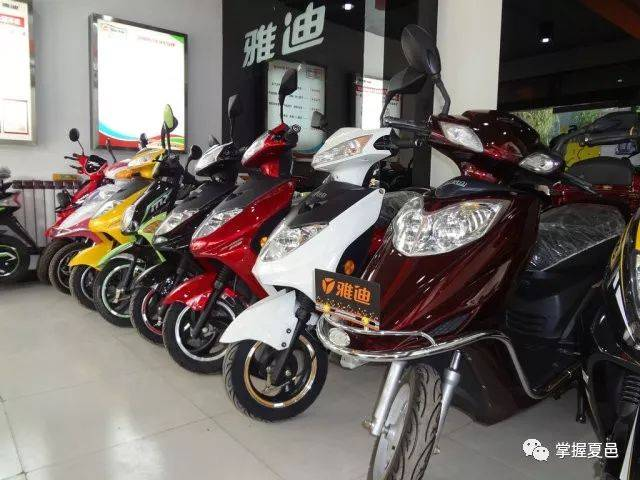电动车: (345, 30, 640, 468), (220, 118, 398, 427), (171, 112, 289, 376), (25, 129, 113, 305), (151, 122, 218, 340), (92, 143, 153, 302), (130, 142, 179, 314)
